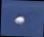Squash-Ball: (0, 1, 44, 37)
